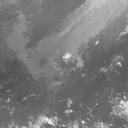cyclone: (41, 44, 89, 89)
